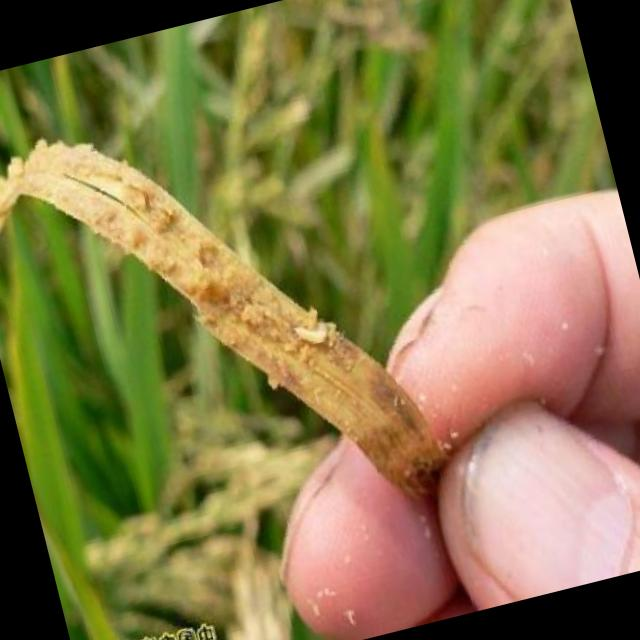whorl-maggot: (286, 316, 338, 351)
